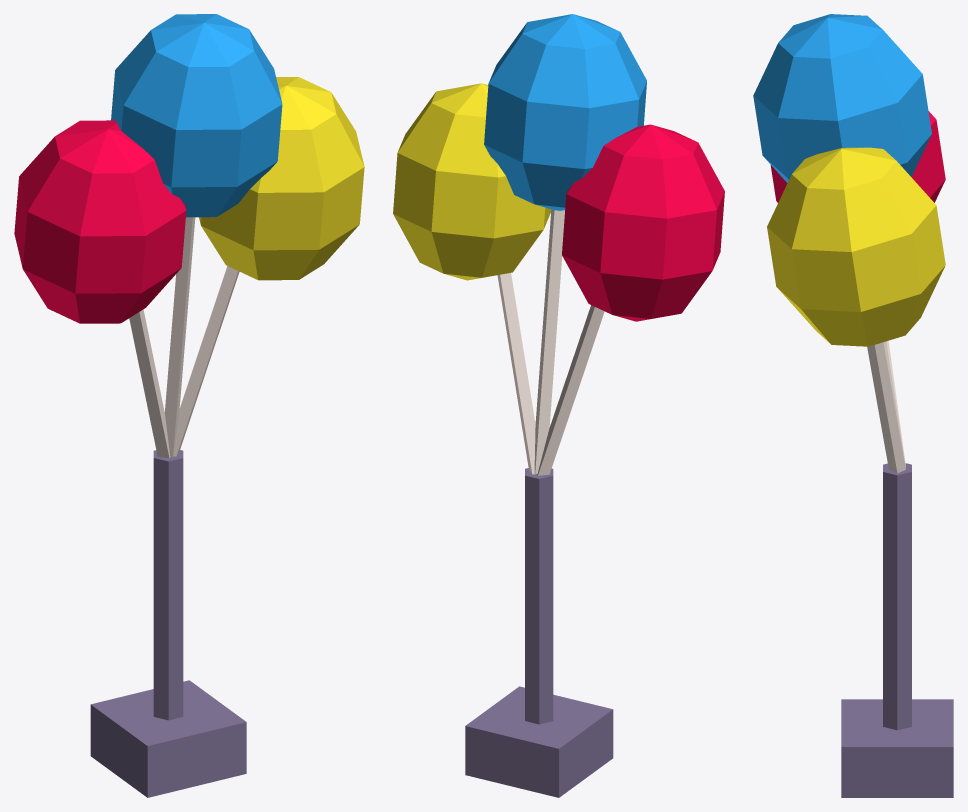
Rendered from balloons.glb.
The picture shows the model from 3 angles, left to right: view 1: azimuth 30°, elevation 25°; view 2: azimuth 150°, elevation 25°; view 3: azimuth 270°, elevation 25°; orthographic projection. The views are drawn at different scales.
Parts seen in each view (by area): view 1: Bunch, Weight, Post; view 2: Bunch, Weight, Post; view 3: Bunch, Weight, Post.
Boxes of the visible parts, x1,y1,x2,y2 form: Bunch: (14, 14, 364, 458); Weight: (90, 680, 246, 797); Post: (153, 450, 183, 720); Bunch: (393, 14, 724, 475); Weight: (465, 686, 613, 797); Post: (525, 468, 553, 724); Bunch: (753, 14, 945, 473); Weight: (841, 699, 953, 797); Post: (883, 463, 911, 730).
Bounding box in the file's own units: 1.33 × 2.97 × 0.7127.
